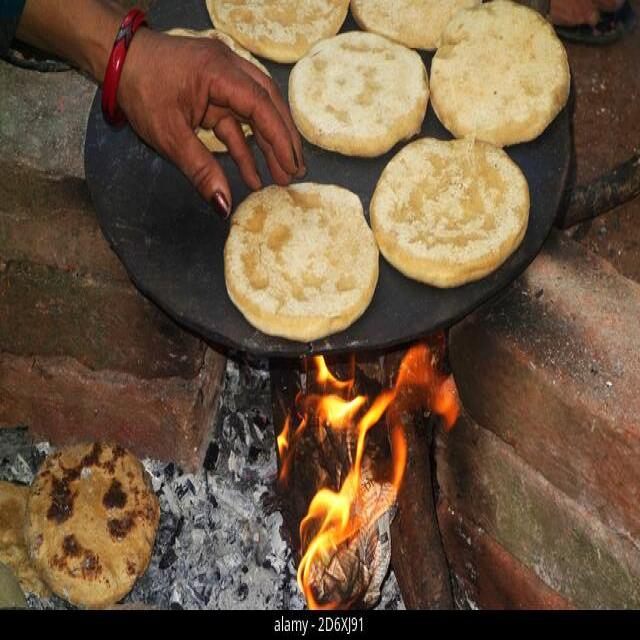fire: (277, 346, 460, 610)
